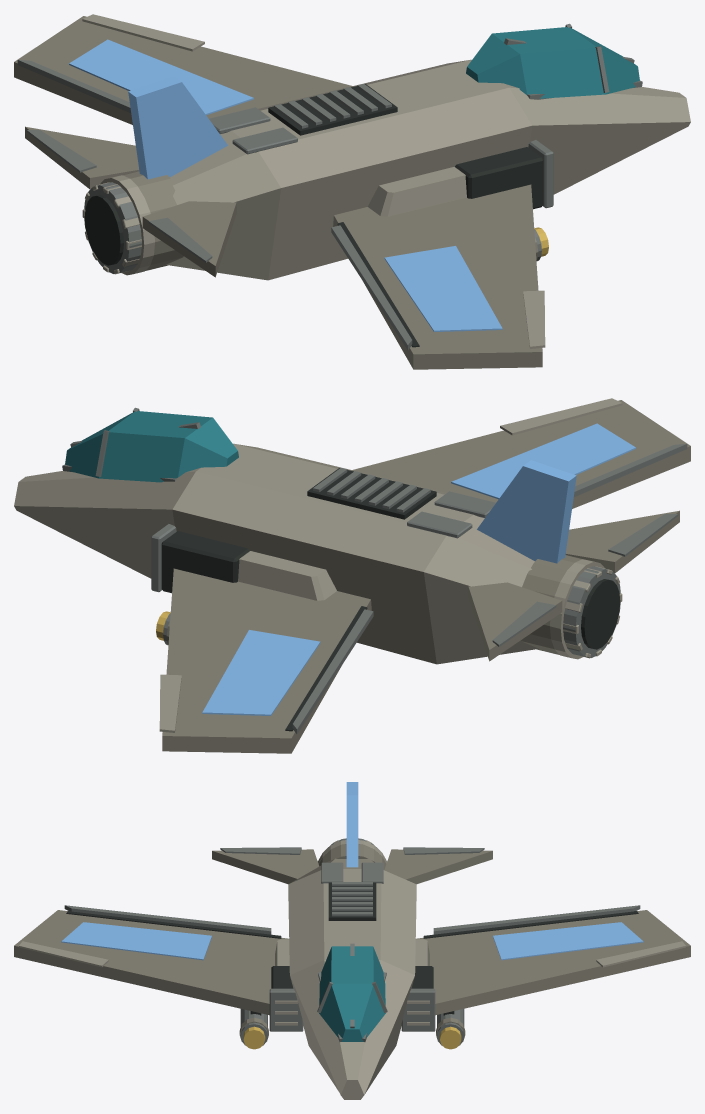
File: talon.glb
3 views of the same model, one above another, from view 1: azimuth 30°, elevation 25°; view 2: azimuth 150°, elevation 25°; view 3: azimuth 270°, elevation 25° (orthographic). The views are drawn at different scales.
Parts seen in each view (by area): view 1: talon; view 2: talon; view 3: talon.
Boxes of the visible parts, x1,y1,x2,y2 form: talon: (14, 14, 690, 369); talon: (14, 398, 690, 753); talon: (14, 782, 690, 1099).
Size of the model in its own units: 2.92 by 0.982 by 4.
